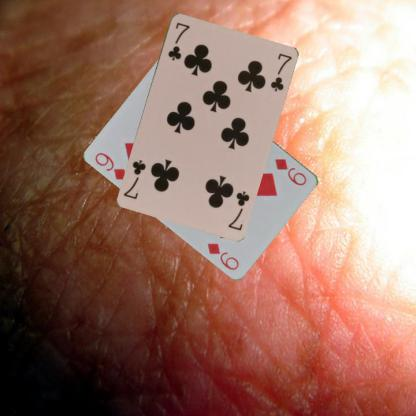7c: (225, 188, 251, 232), (165, 19, 191, 62)
9d: (272, 155, 309, 187), (92, 150, 129, 181)
